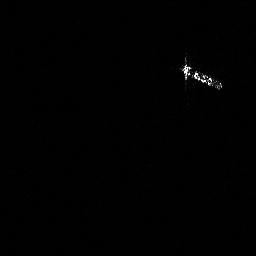ship: (180, 58, 224, 91)
